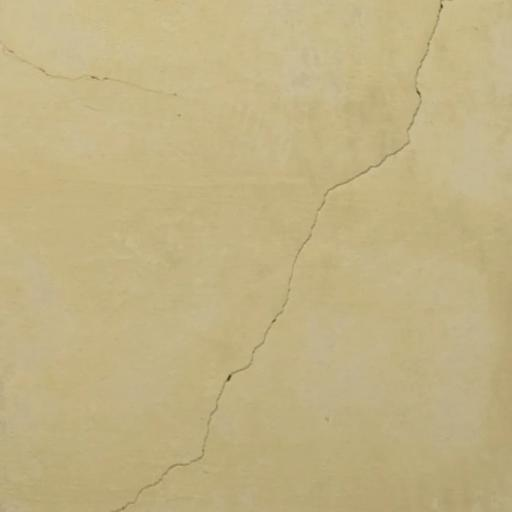minor_crack: (109, 4, 512, 512), (1, 33, 184, 116)
